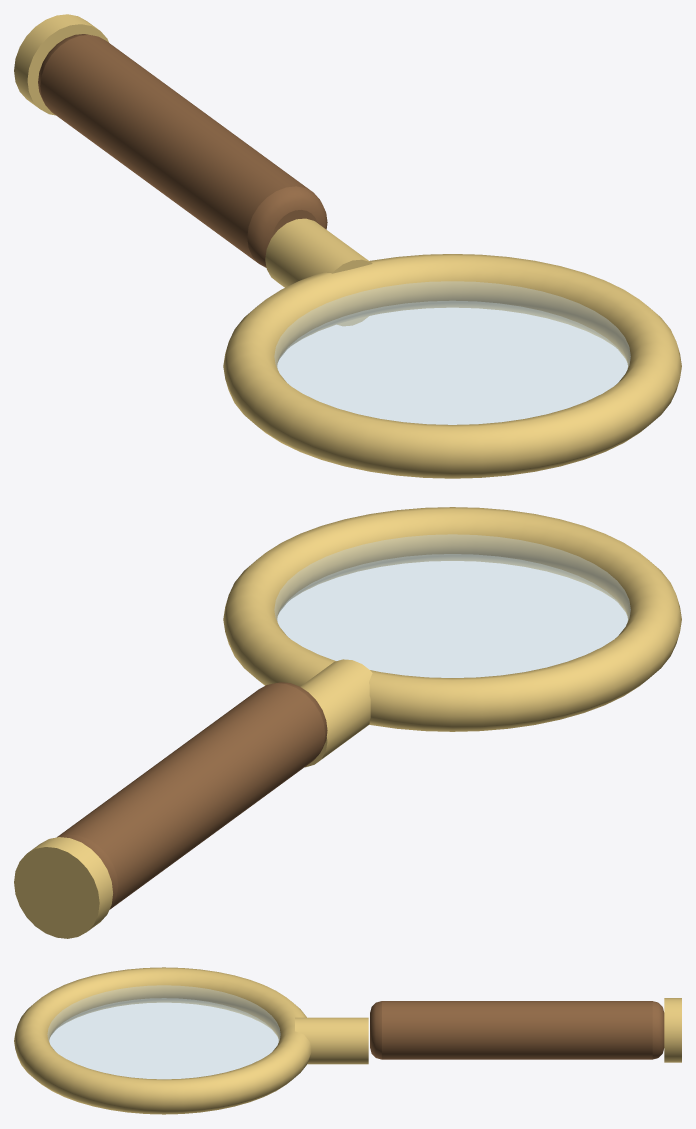
File: Item_Magnifier.fbx
The picture shows the model from 3 angles, top to bottom: view 1: azimuth 30°, elevation 25°; view 2: azimuth 150°, elevation 25°; view 3: azimuth 270°, elevation 25°; orthographic projection. The views are drawn at different scales.
Visible parts, largest first — view 1: Item_Magnifier; view 2: Item_Magnifier; view 3: Item_Magnifier.
Boxes of the visible parts, x1,y1,x2,y2 form: Item_Magnifier: (14, 14, 681, 478); Item_Magnifier: (14, 507, 681, 938); Item_Magnifier: (14, 967, 681, 1114).
Size of the model in its own units: 0.102 by 0.023 by 0.227.
